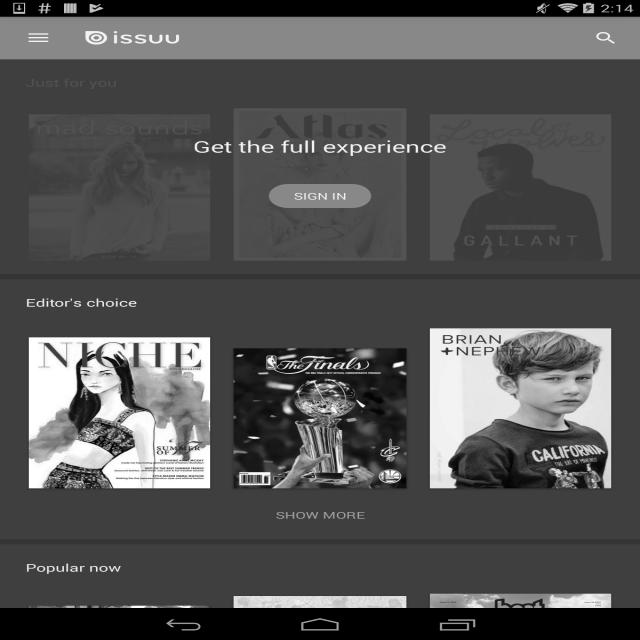Button: (269, 184, 371, 208)
ImageButton: (9, 17, 68, 59)
ImageView: (430, 328, 611, 488), (29, 338, 210, 488), (29, 114, 210, 261), (430, 114, 611, 261), (234, 108, 406, 261), (234, 348, 406, 488), (430, 593, 611, 640), (234, 596, 406, 640), (28, 605, 210, 640), (580, 22, 632, 54), (86, 31, 180, 45)
TextView: (26, 496, 614, 534), (26, 75, 614, 90), (26, 295, 614, 310), (26, 560, 614, 575), (193, 136, 446, 157)
